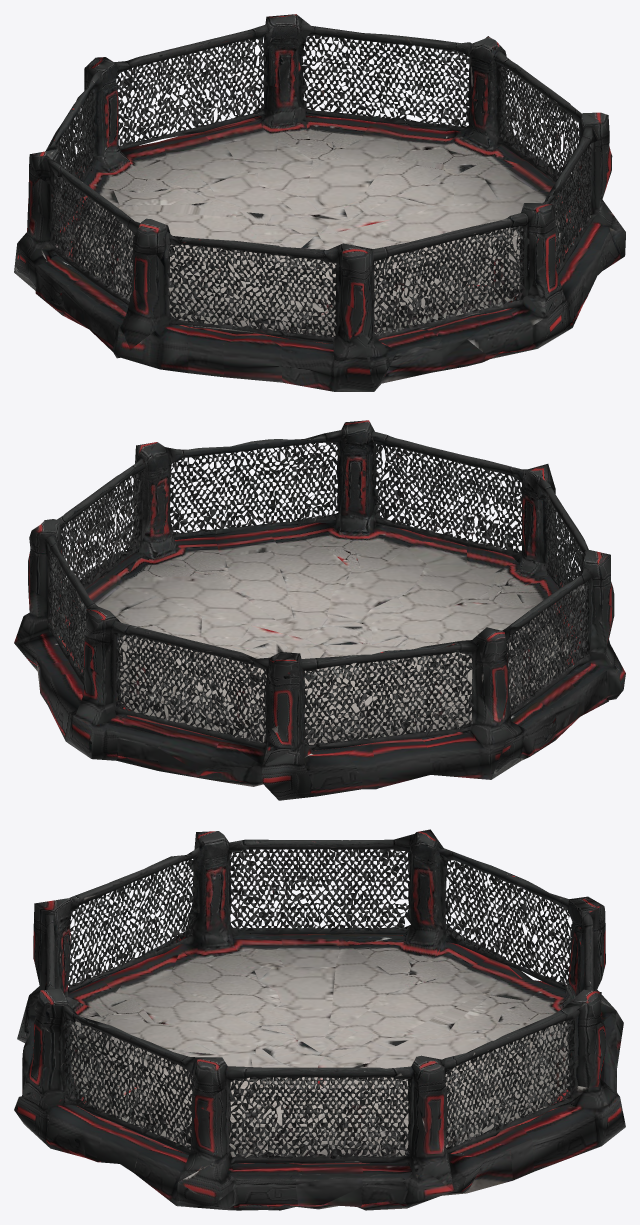
File: autochess_board.glb
3 renders of one model, top to bottom at view 1: azimuth 30°, elevation 25°; view 2: azimuth 150°, elevation 25°; view 3: azimuth 270°, elevation 25°, orthographic. The views are drawn at different scales.
Parts seen in each view (by area): view 1: tft_board; view 2: tft_board; view 3: tft_board.
Part boxes in pixels (box(x1,y1,x2,y2)): tft_board: box(14, 14, 625, 391); tft_board: box(14, 420, 625, 800); tft_board: box(14, 829, 625, 1210).
Size of the model in its own units: 1.9 by 0.4751 by 1.9.
Materials: 1 (1 with a texture image).
